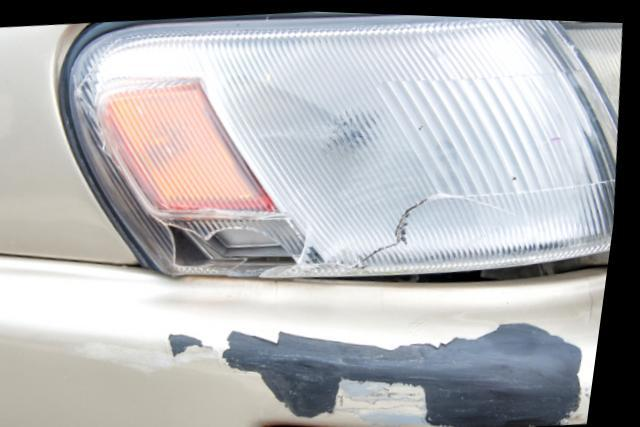lamp broken: (70, 11, 623, 277)
scratch: (75, 311, 603, 427)
